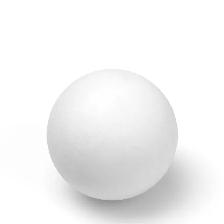WhiteBall: (45, 68, 178, 200)
